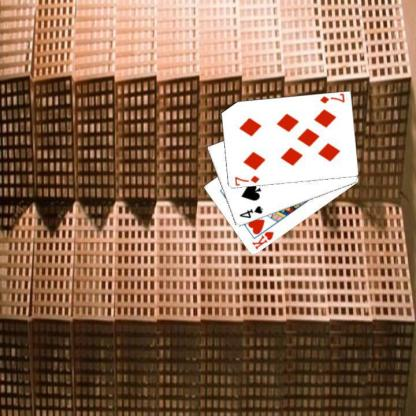4S: (237, 204, 263, 220)
7D: (232, 173, 260, 186), (317, 93, 346, 105)
KH: (250, 229, 275, 251)
